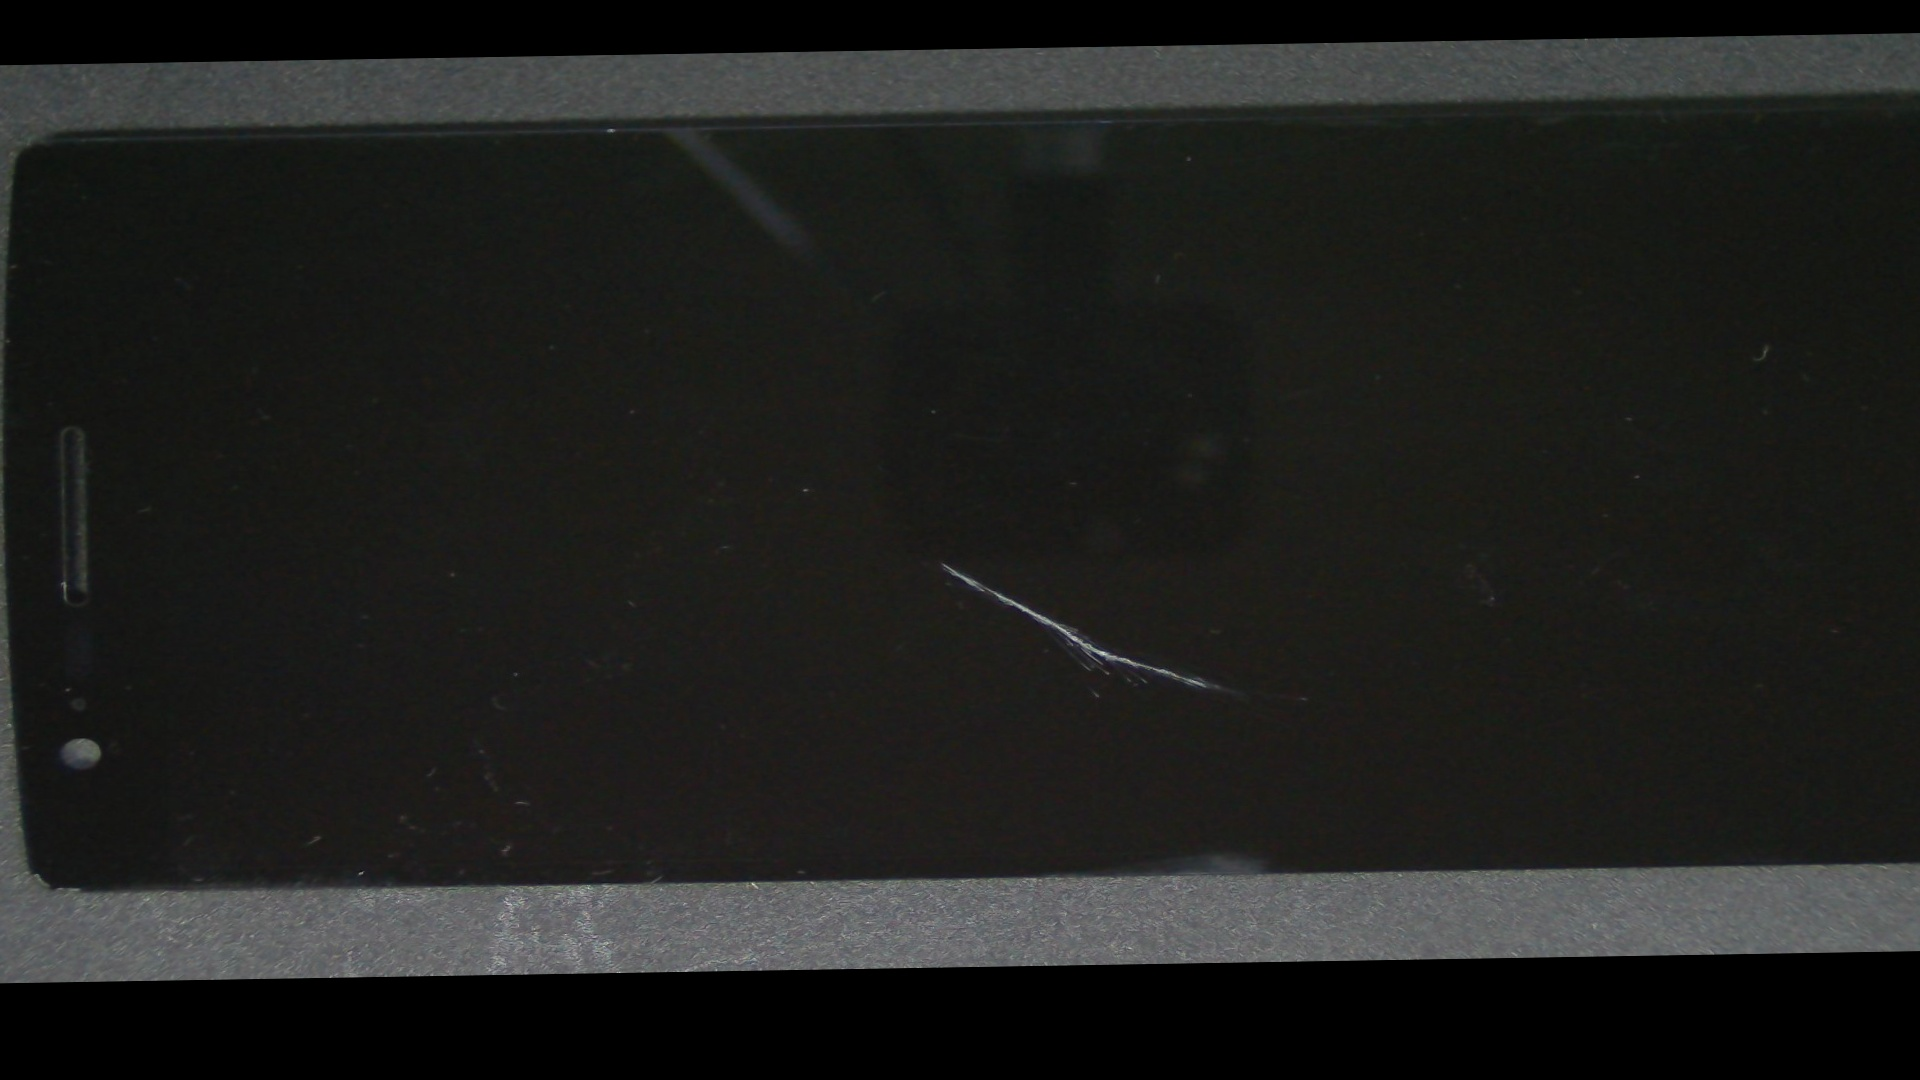oil: (436, 297, 1447, 827)
